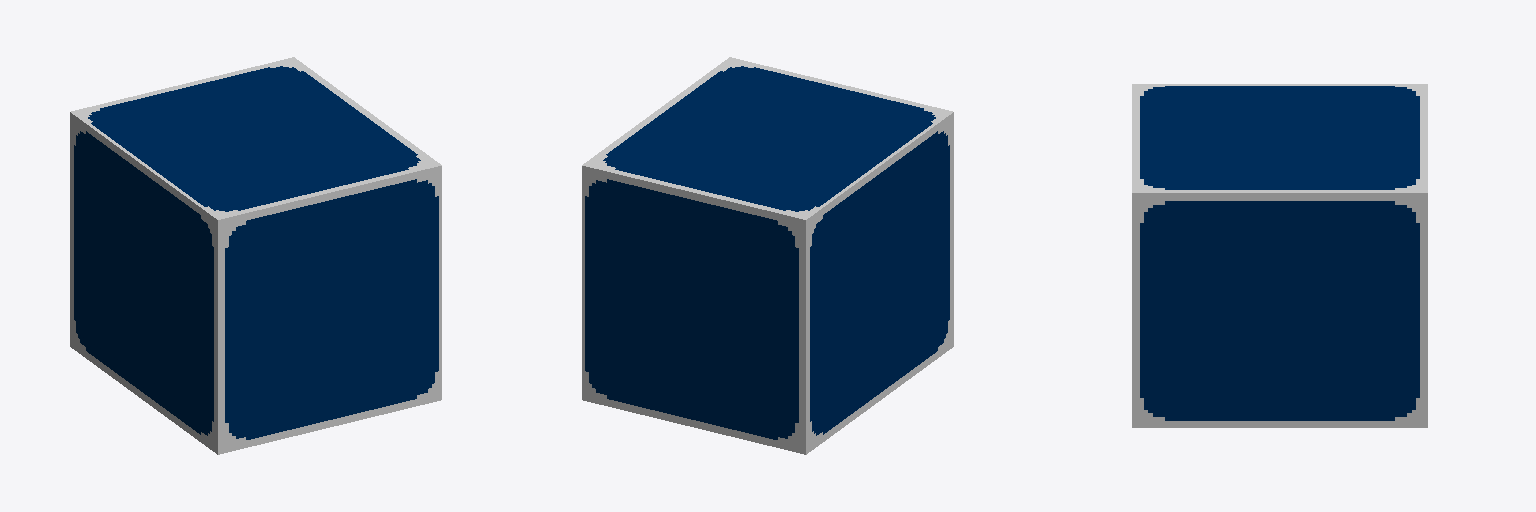
The picture shows the model from 3 angles: view 1: azimuth 30°, elevation 25°; view 2: azimuth 150°, elevation 25°; view 3: azimuth 270°, elevation 25°; orthographic projection.
Visible parts, largest first — view 1: object 1; view 2: object 1; view 3: object 1.
Part boxes in pixels (bbox=[...]): object 1: bbox=[70, 57, 441, 454]; object 1: bbox=[582, 57, 953, 454]; object 1: bbox=[1132, 84, 1427, 427].
Size of the model in its own units: 6.3 by 6.3 by 7.2.
1 materials, 1 textured.